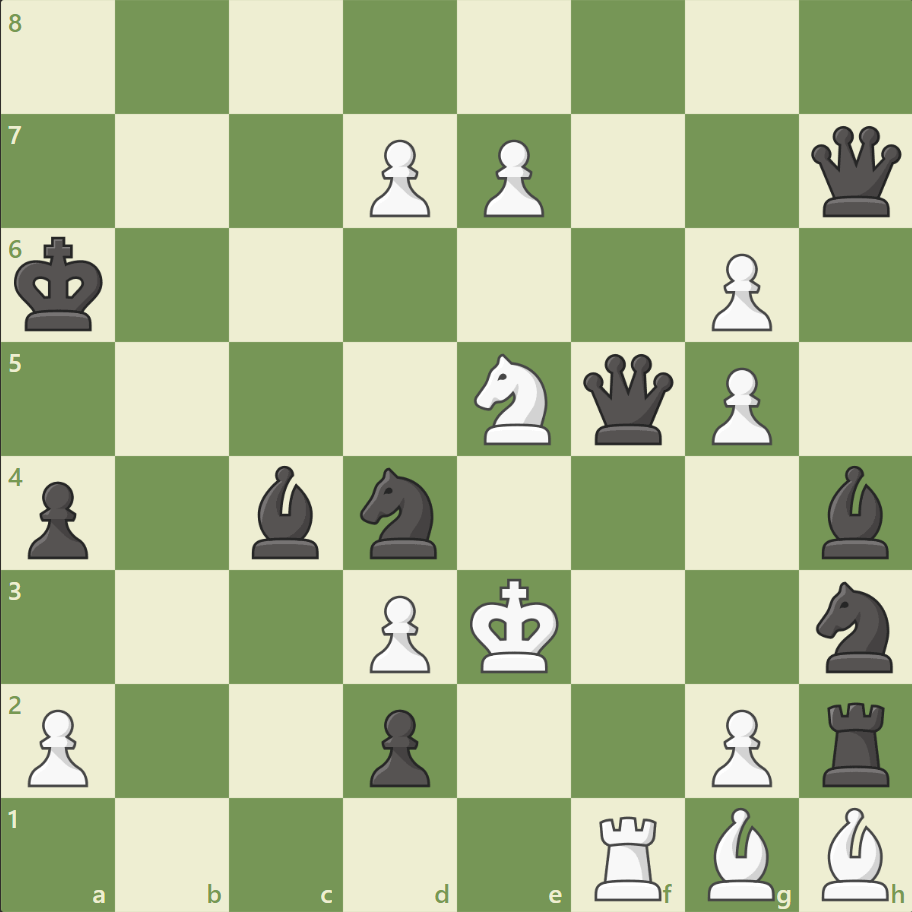B: (698, 801, 782, 904), (812, 801, 896, 904)
K: (465, 571, 565, 679)
N: (465, 348, 562, 450)
P: (474, 132, 549, 223), (701, 246, 776, 337), (701, 359, 776, 450), (20, 700, 95, 791), (701, 700, 776, 791), (361, 132, 435, 223), (361, 586, 435, 677)
R: (587, 806, 670, 904)
b: (244, 460, 328, 563), (812, 460, 896, 563)
k: (11, 231, 111, 339)
n: (351, 461, 449, 564), (806, 575, 903, 677)
p: (20, 473, 95, 564), (361, 700, 435, 791)
q: (805, 122, 904, 222), (578, 349, 677, 449)
r: (814, 693, 897, 790)
